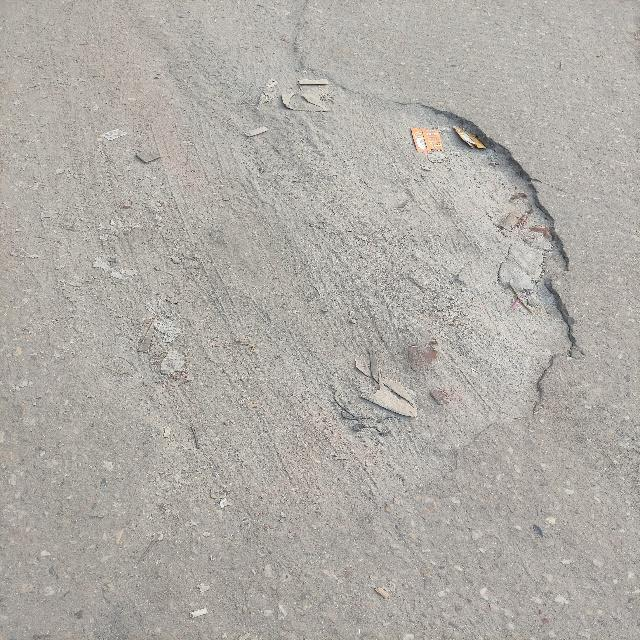Surface Erosion: (175, 49, 640, 465)
